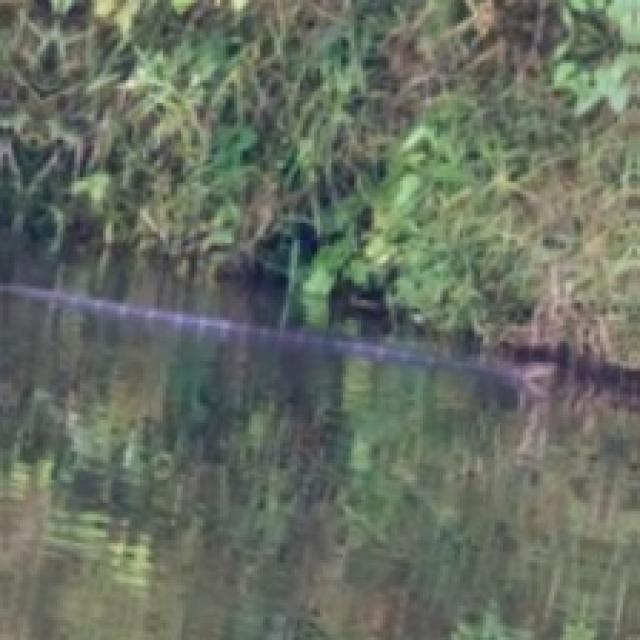king cobra: (0, 294, 637, 637)
